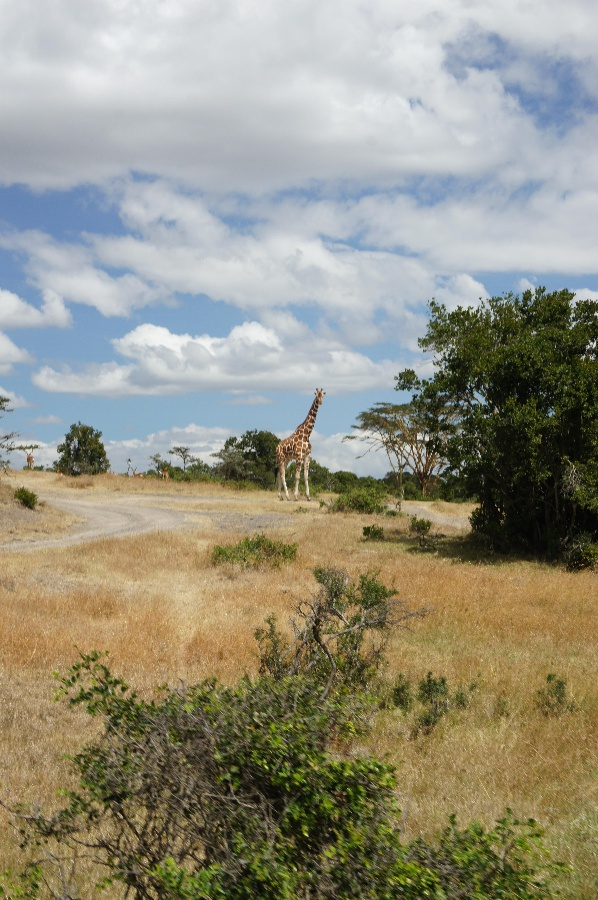giraffe: (271, 382, 328, 505)
